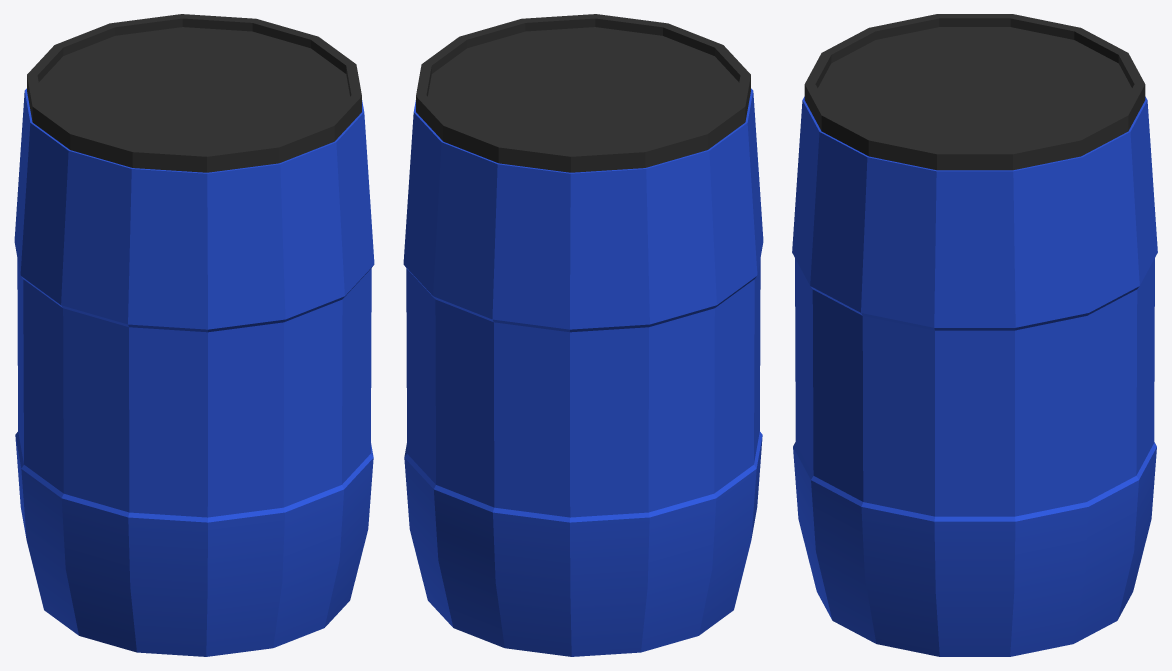
3 renders of one model, left to right at view 1: azimuth 30°, elevation 25°; view 2: azimuth 150°, elevation 25°; view 3: azimuth 270°, elevation 25°, orthographic.
Parts seen in each view (by area): view 1: Цилиндр.001; view 2: Цилиндр.001; view 3: Цилиндр.001.
Boxes of the visible parts, x1,y1,x2,y2 form: Цилиндр.001: (14,14,374,656); Цилиндр.001: (403,14,763,656); Цилиндр.001: (792,14,1157,656).
Bounding box in the file's own units: 113 × 178 × 116.
